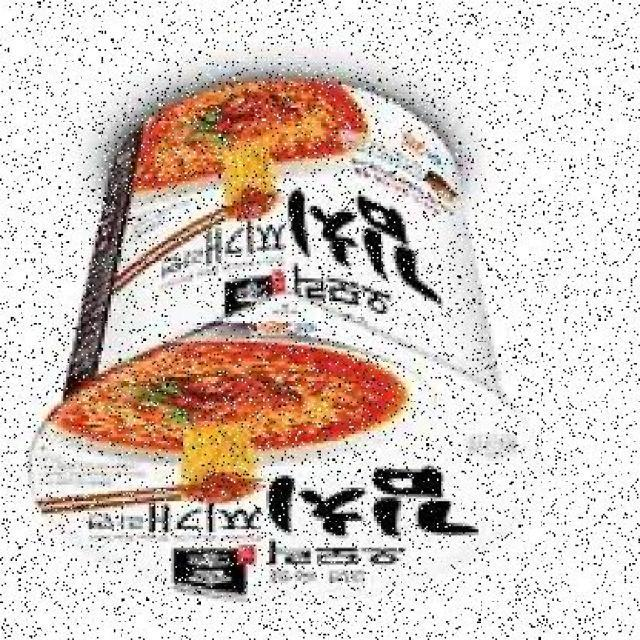Miscellaneous: (49, 83, 534, 605)
